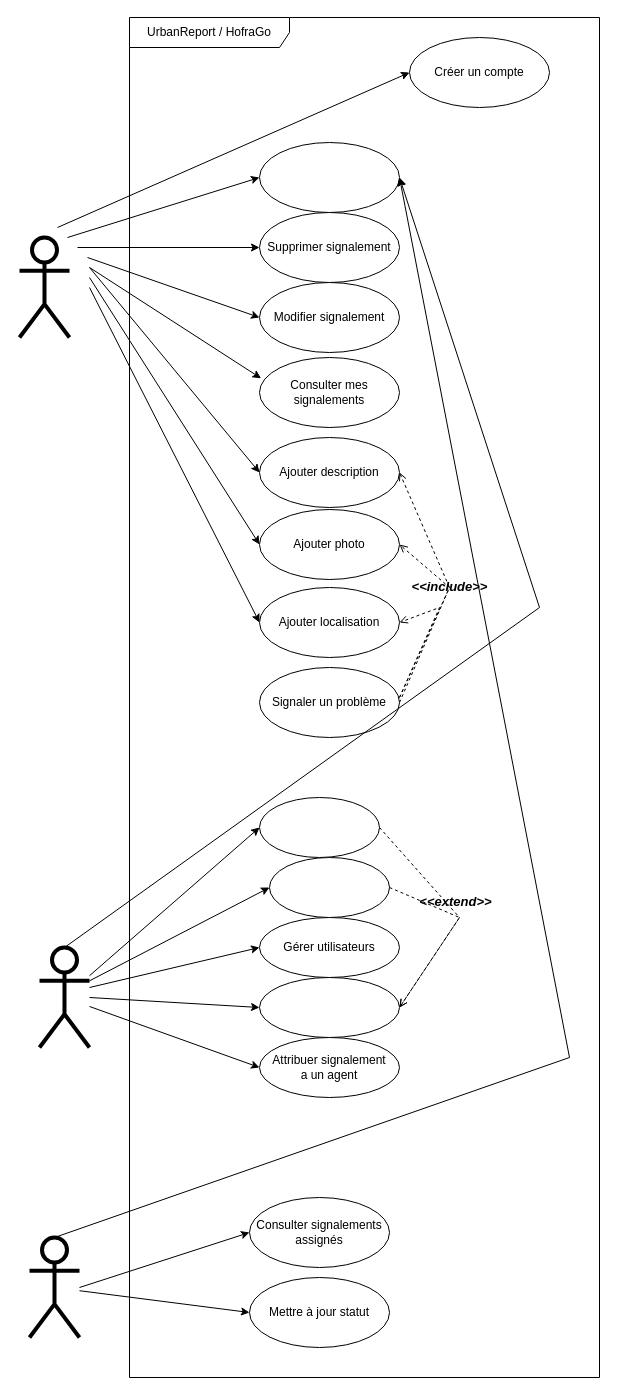
Some shapes in this 617 by 1395 pixel diagram are drawn without their labels. The shapes that lost their labels are listed below. From the top down, each one's centre as x and y in pixels, then its label:
[329,177]: Se connecter
[44,287]: Citoyen
[319,827]: Filtrer(type/statut)
[329,887]: Rechercher signalements
[64,997]: Administrateur
[329,1007]: Consulter liste des signalements
[54,1287]: Agent
